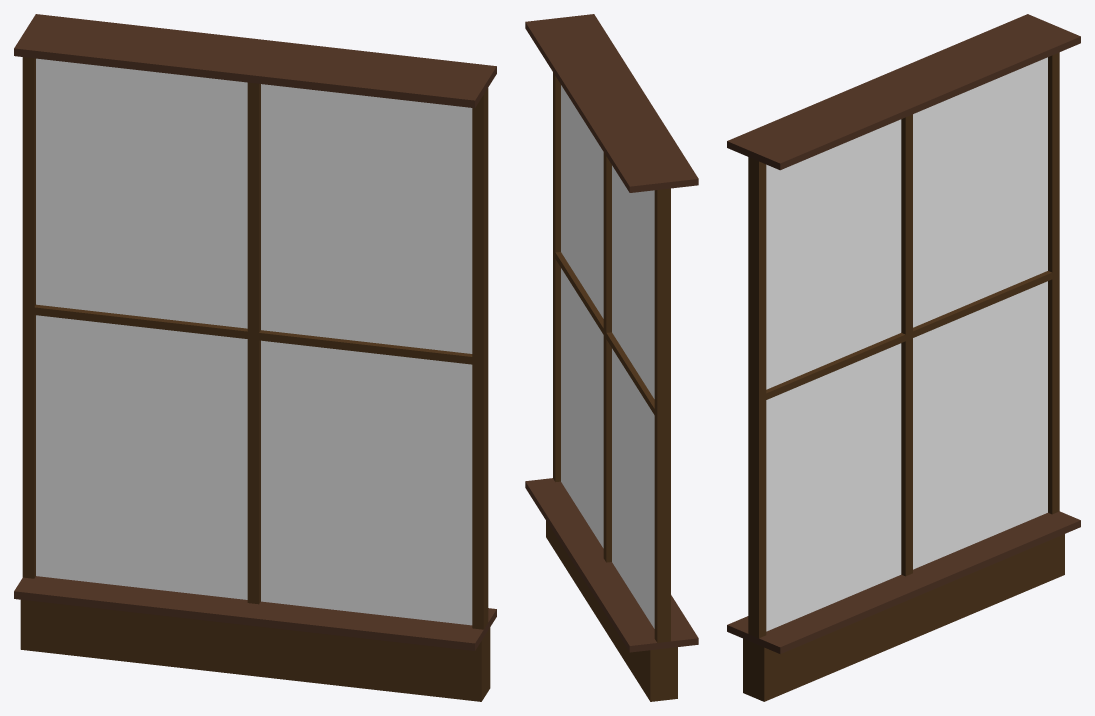
File: SM_Window_Corner.fbx
3 views of the same model, side by side, from view 1: azimuth 30°, elevation 25°; view 2: azimuth 150°, elevation 25°; view 3: azimuth 270°, elevation 25° (orthographic). The views are drawn at different scales.
Parts seen in each view (by area): view 1: Window_Corner; view 2: Window_Corner; view 3: Window_Corner.
Boxes of the visible parts, x1=… form: Window_Corner: x1=14, y1=14, x2=496, y2=701; Window_Corner: x1=525, y1=14, x2=698, y2=701; Window_Corner: x1=727, y1=14, x2=1080, y2=701.
Bounding box in the file's own units: 118 × 200 × 118.
